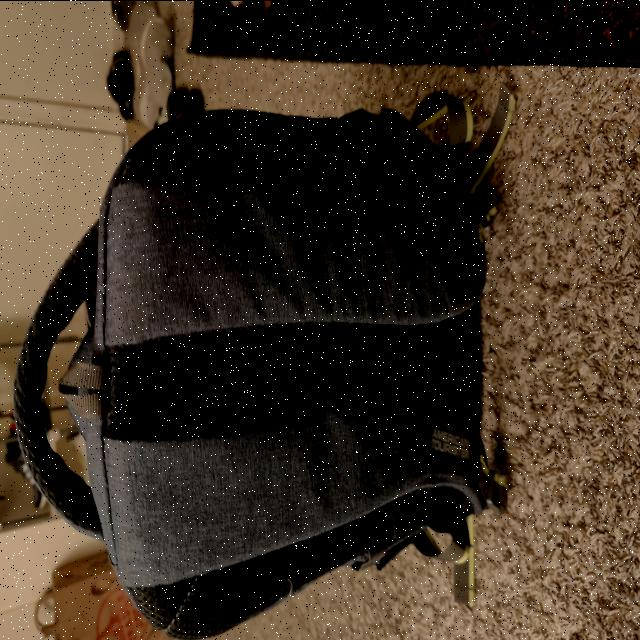bag: (14, 111, 478, 619)
